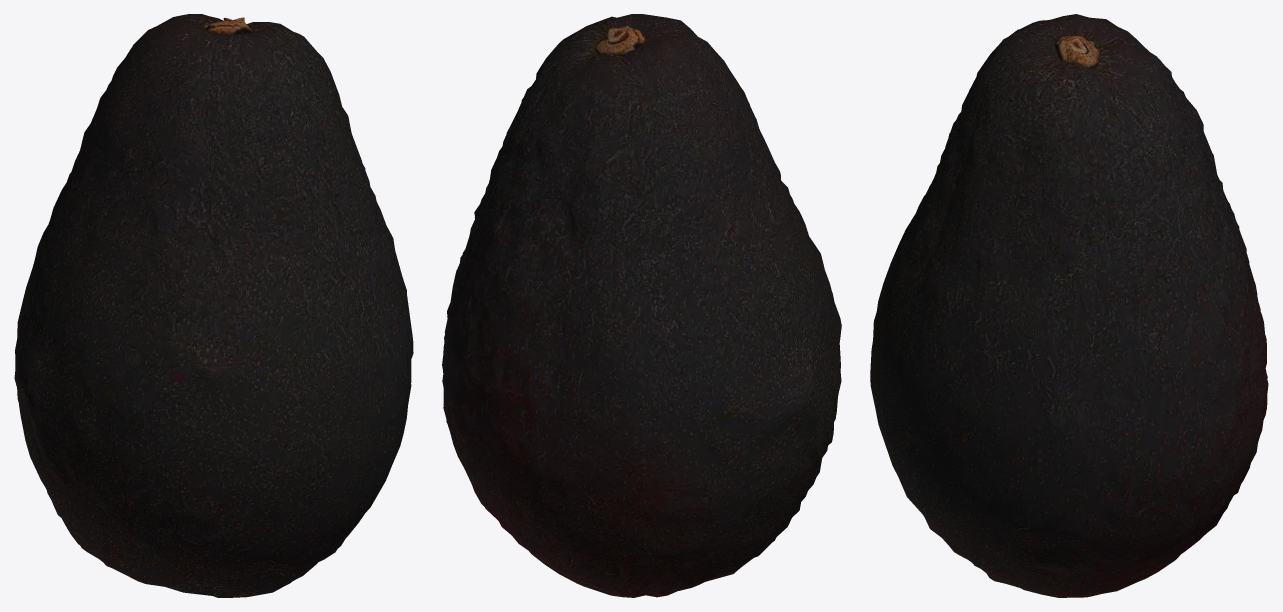
Rendered from avocado.glb.
3 renders of one model, left to right at view 1: azimuth 30°, elevation 25°; view 2: azimuth 150°, elevation 25°; view 3: azimuth 270°, elevation 25°, orthographic. The views are drawn at different scales.
Parts seen in each view (by area): view 1: food_avocado_01; view 2: food_avocado_01; view 3: food_avocado_01.
Part boxes in pixels (x1,y1,x2,y2): food_avocado_01: (14,14,413,597); food_avocado_01: (442,14,841,597); food_avocado_01: (870,14,1268,597).
Bounding box in the file's own units: 0.0952 × 0.1432 × 0.0946.
Materials: 1 (1 with a texture image).
